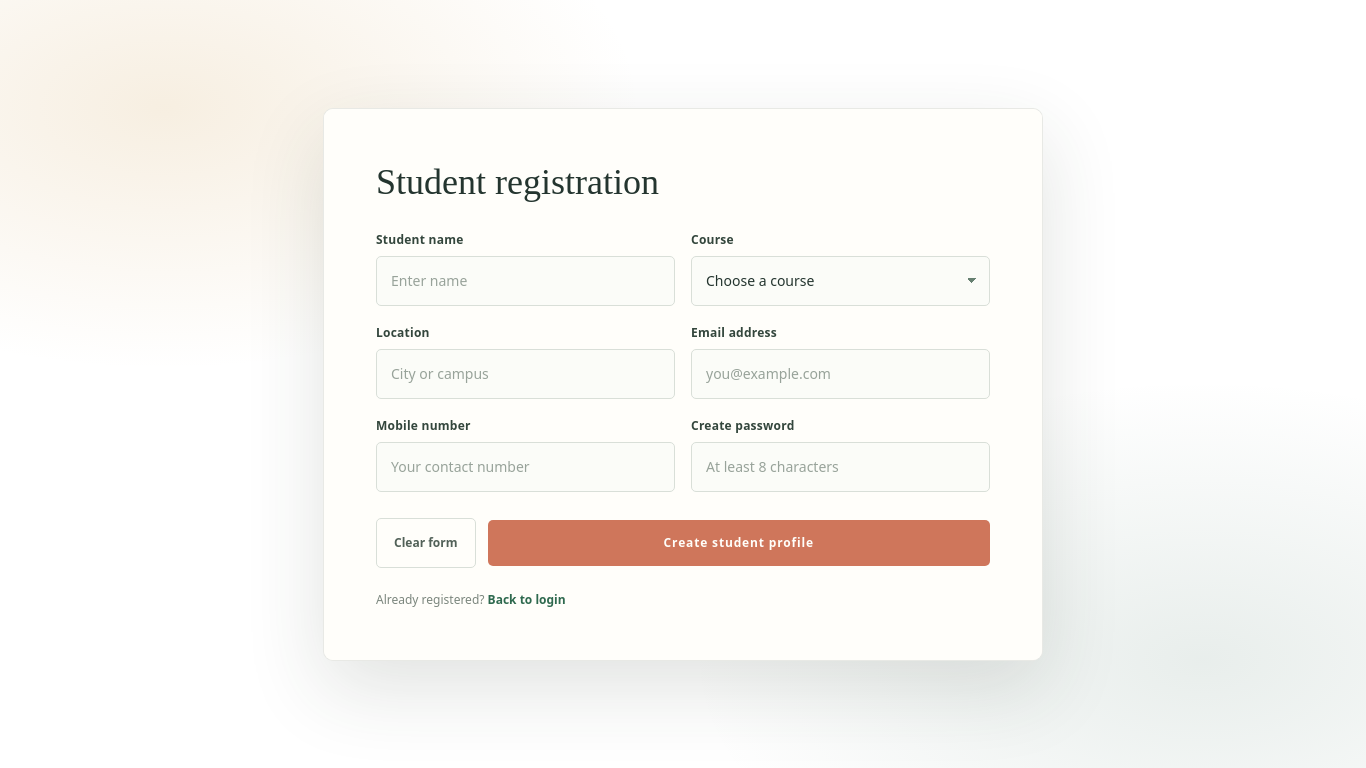
StudentForm › clears all fields when Clear form is clicked
In the field labelled "Student name": [526, 280] box [376,256,675,306], type "Jakka"
Select "CSE" in the dropdown labelled "Course": [840, 280] box [691,256,990,306]
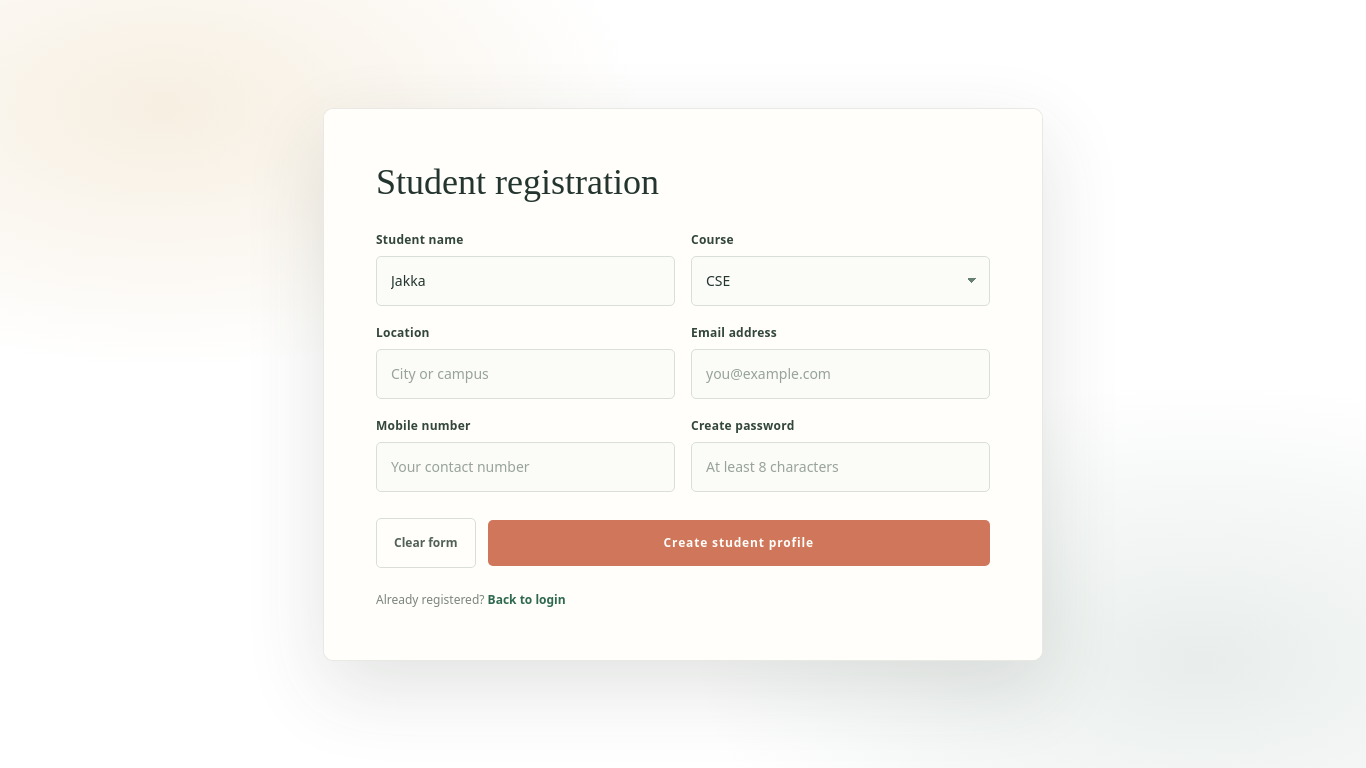
In the field labelled "Location": [526, 374] box [376,348,675,398], type "Guntur"
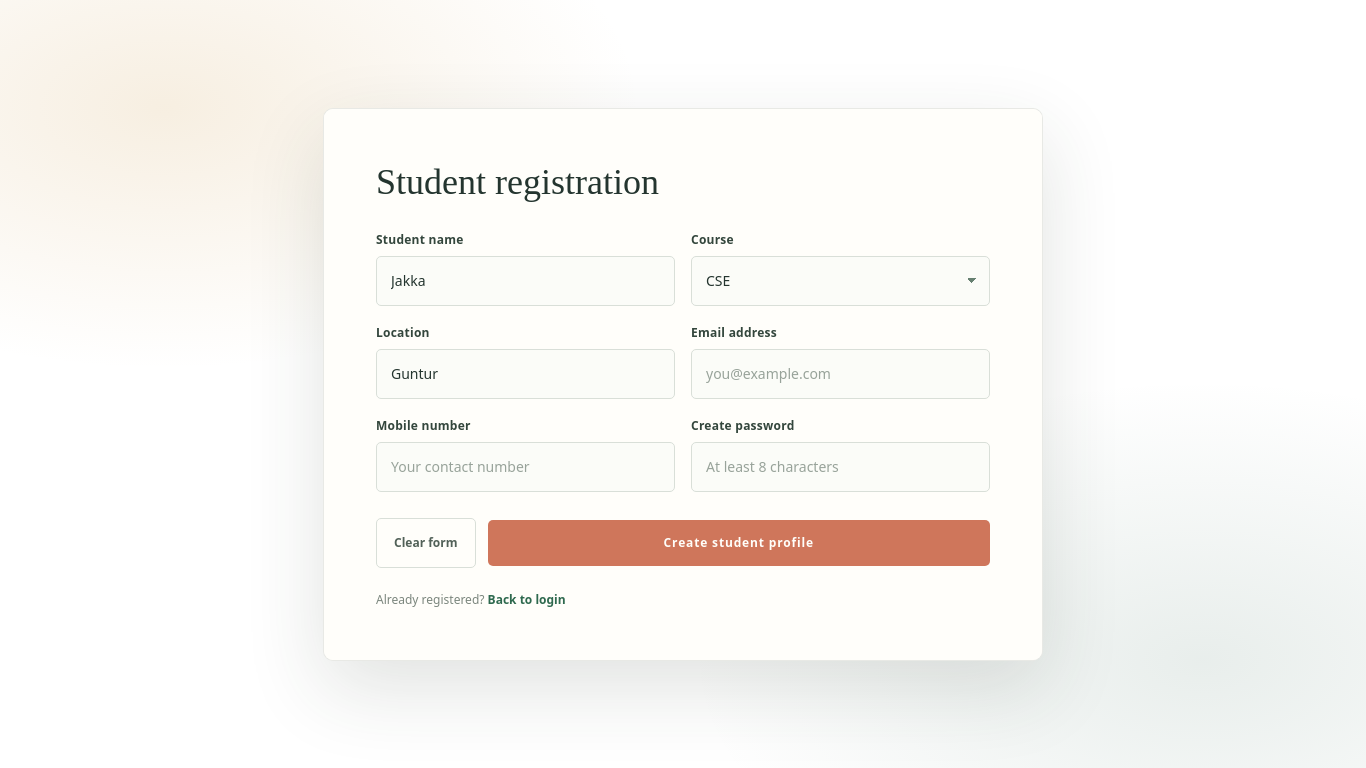
In the field labelled "Email address": [840, 374] box [691,348,990,398], type "jakka@example.com"
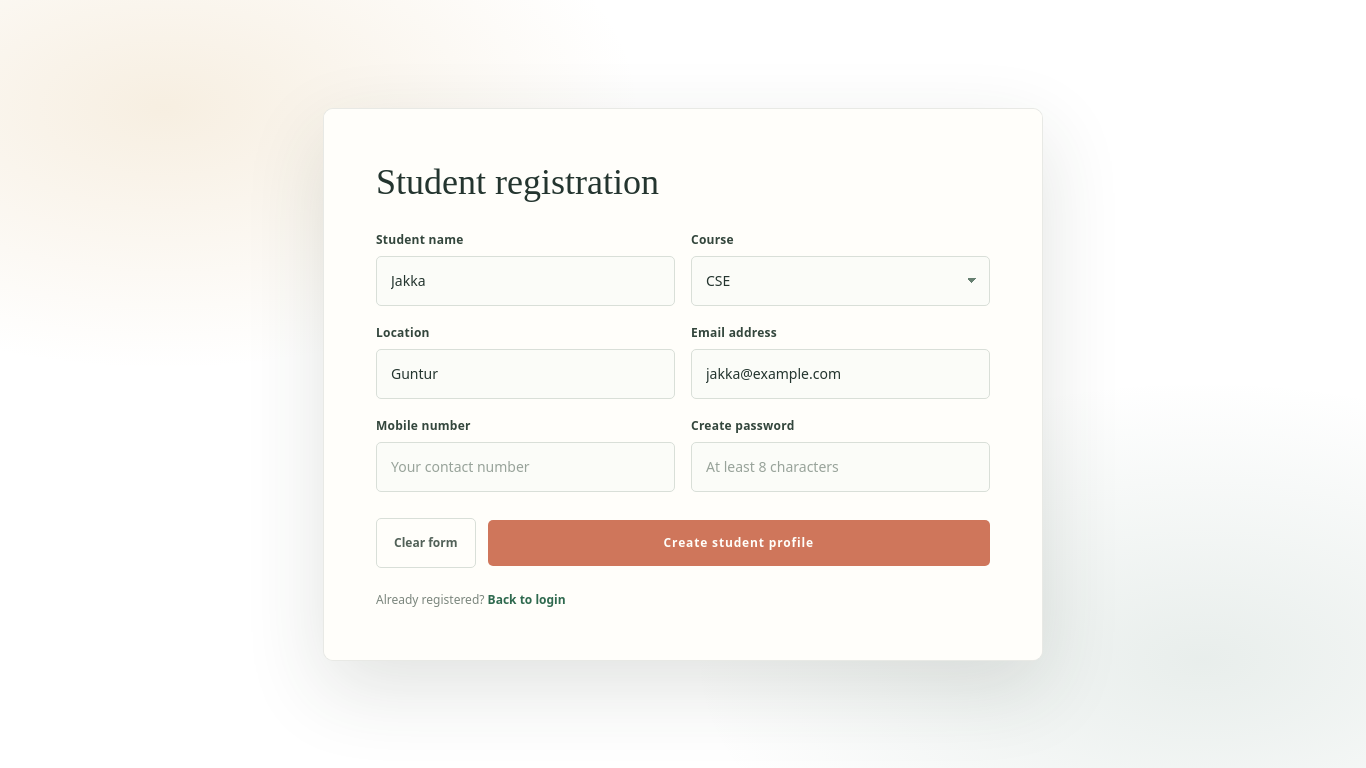
In the field labelled "Mobile number": [526, 466] box [376,442,675,492], type "9876543210"
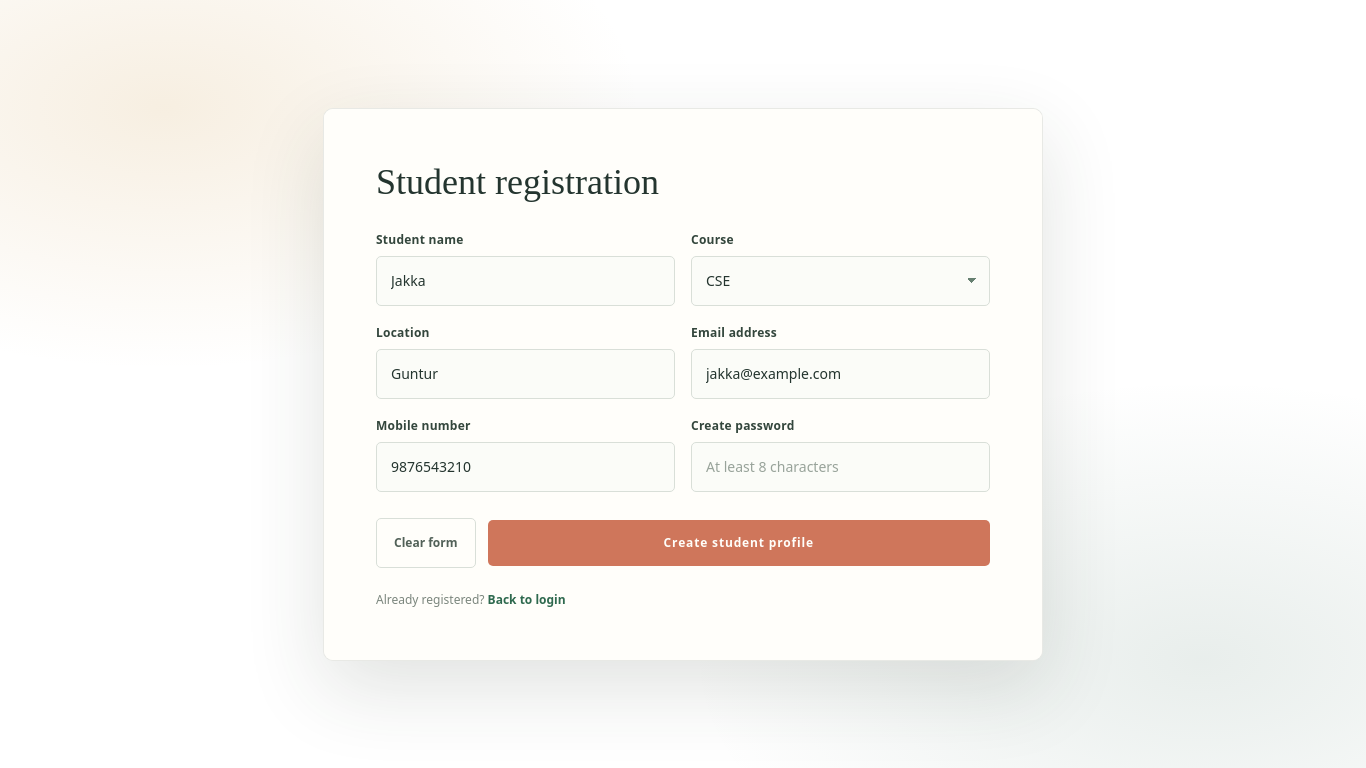
In the password field labelled "Create password": [840, 466] box [691,442,990,492], type "password123"
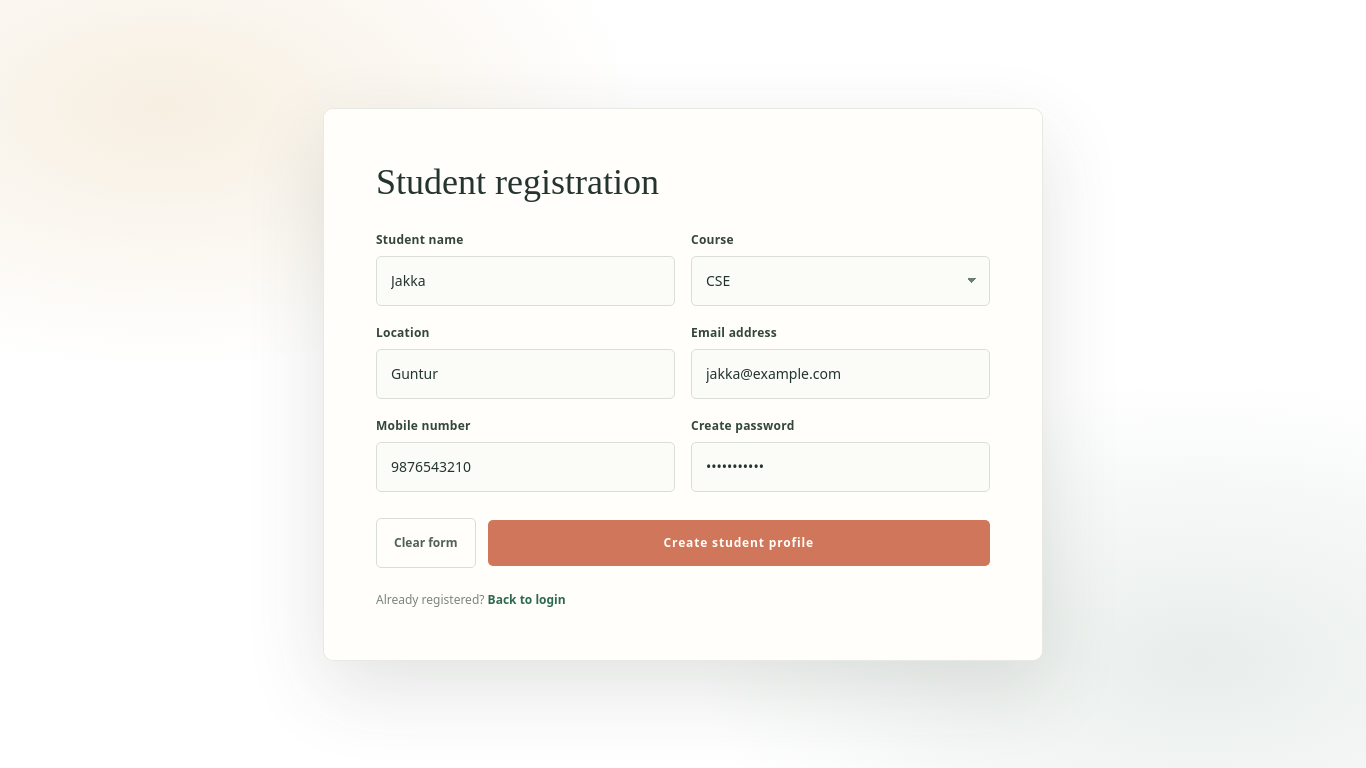
Click the button "Clear form": [426, 542] box [376,518,476,568]
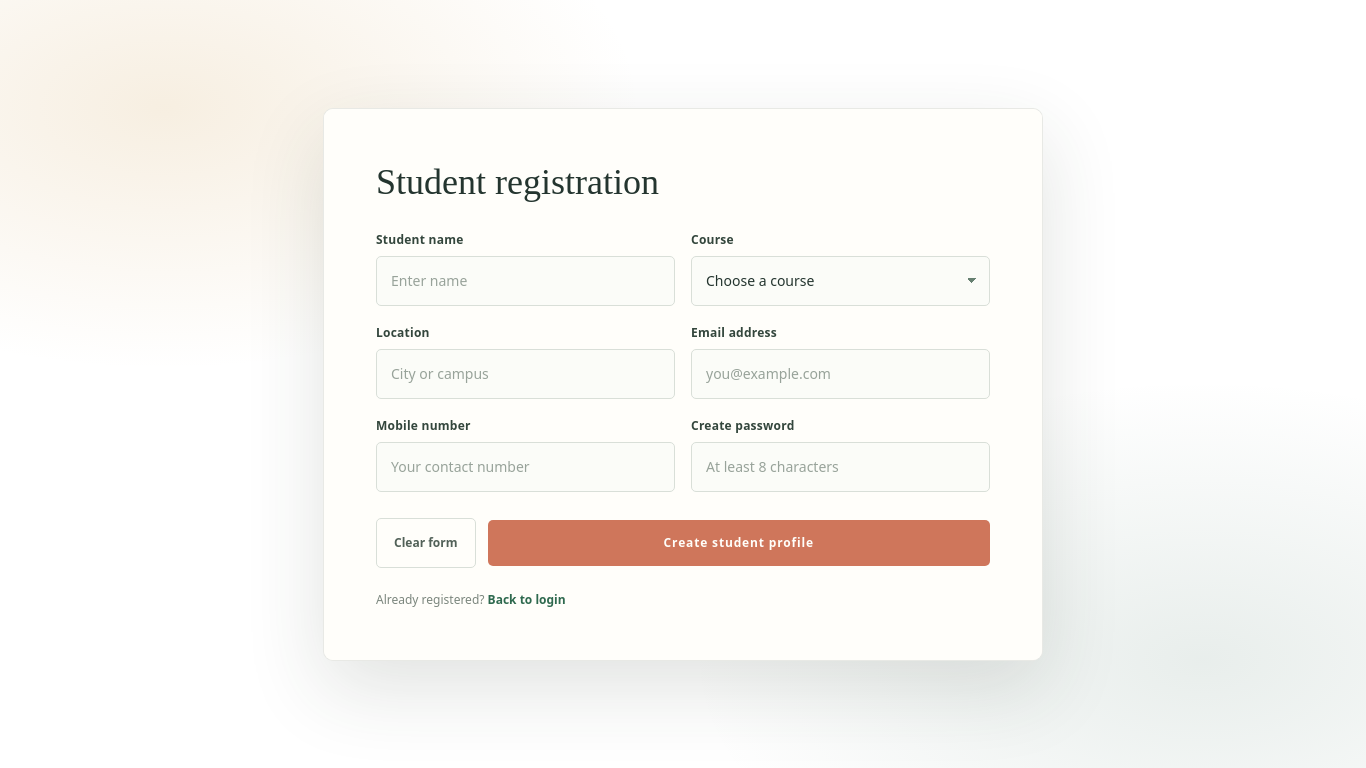
Check: the field labelled "Student name" is empty, box [376,256,675,306]
Check: the field labelled "Location" is empty, box [376,348,675,398]
Check: the field labelled "Email address" is empty, box [691,348,990,398]
